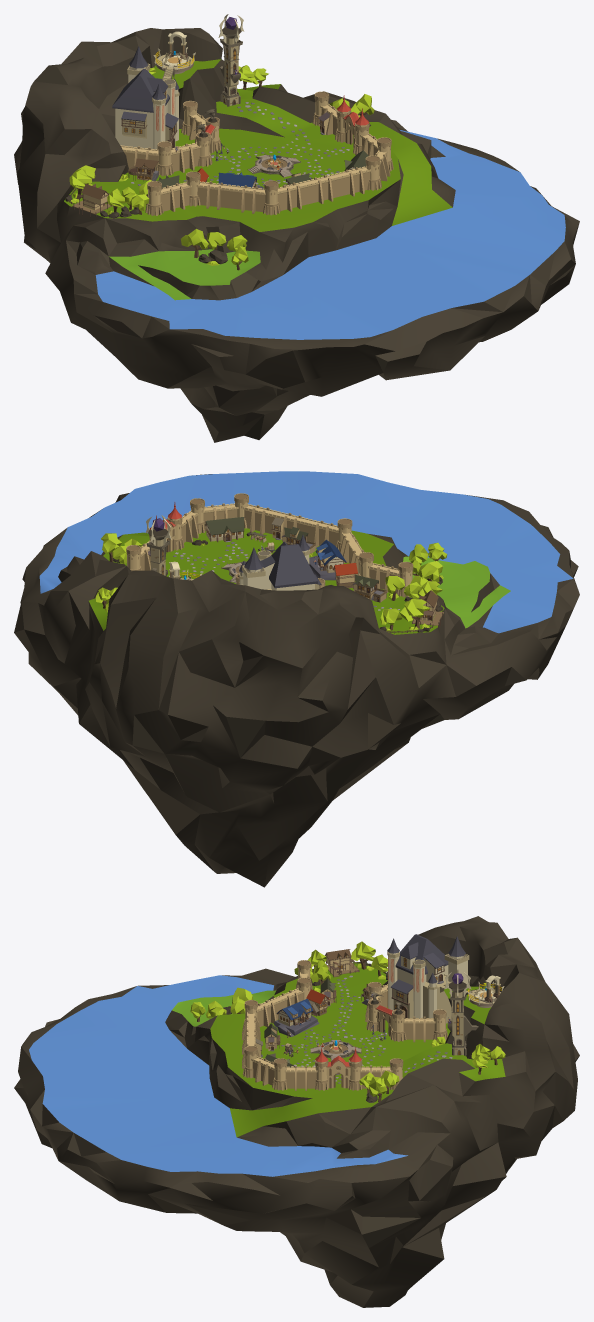
Rendered from Tag_ProtoEnv.fbx.
3 views of the same model, one above another, from view 1: azimuth 30°, elevation 25°; view 2: azimuth 150°, elevation 25°; view 3: azimuth 270°, elevation 25° (orthographic). The views are drawn at different scales.
Parts seen in each view (by area): view 1: SFMC_main:SFMC_geo7; view 2: SFMC_main:SFMC_geo7; view 3: SFMC_main:SFMC_geo7.
Part boxes in pixels (<box>): SFMC_main:SFMC_geo7: <box>14,14,579,442</box>; SFMC_main:SFMC_geo7: <box>14,471,579,887</box>; SFMC_main:SFMC_geo7: <box>14,916,579,1307</box>.
Bounding box in the file's own units: 11839 × 9215 × 13435.
Materials: 1 (1 with a texture image).
